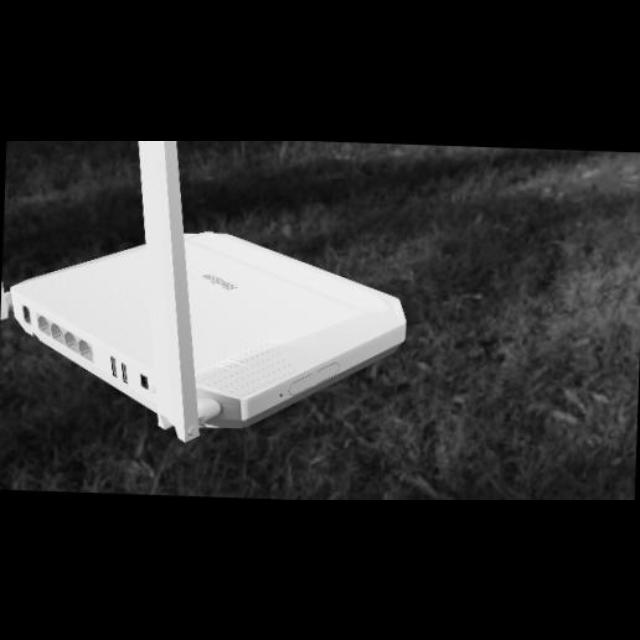Router: (1, 144, 406, 446)
